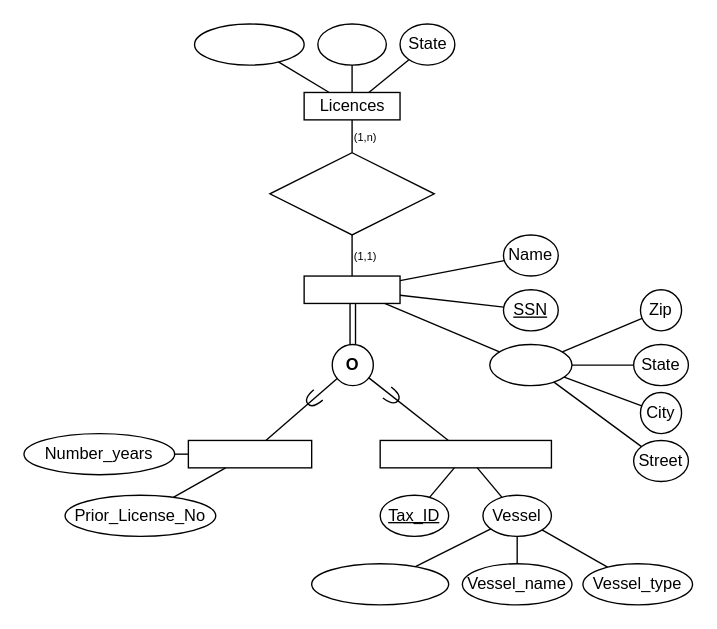
Image size: 717x629. Some labels were removed from this diagram. The box of each missing label's shape, as (x1, y1, x2, y2) in pixels:
Address: (488, 343, 572, 386)
Commercial_Fishers: (379, 439, 551, 468)
Licence_No: (193, 23, 304, 65)
Owns: (269, 151, 434, 235)
Residents: (303, 275, 400, 303)
Season: (316, 23, 386, 65)
Sport_Fishers: (187, 439, 312, 468)
Vessel_number: (310, 562, 449, 605)
